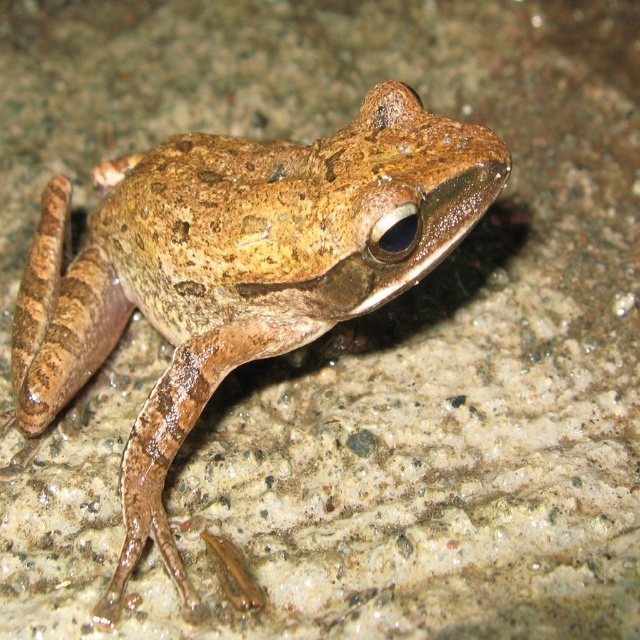Frog: (0, 79, 513, 633)
